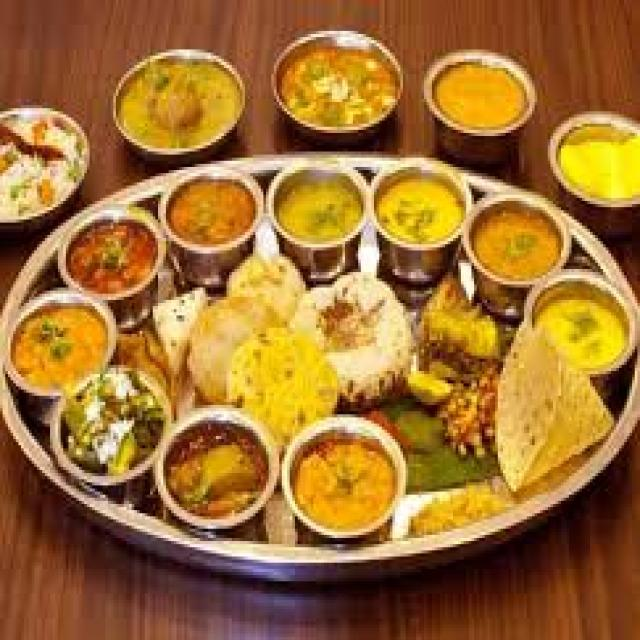dal: (4, 293, 113, 394), (374, 171, 468, 251), (473, 204, 568, 280), (276, 173, 359, 245)
papad: (488, 291, 609, 489), (203, 271, 337, 429), (319, 281, 419, 407), (150, 285, 211, 386)
raita: (52, 360, 165, 491), (0, 111, 84, 225)
rice: (1, 106, 84, 229)
sweet: (289, 417, 406, 536), (159, 411, 274, 521), (433, 56, 526, 134)
veg-fry: (58, 206, 163, 311), (158, 174, 260, 254)
